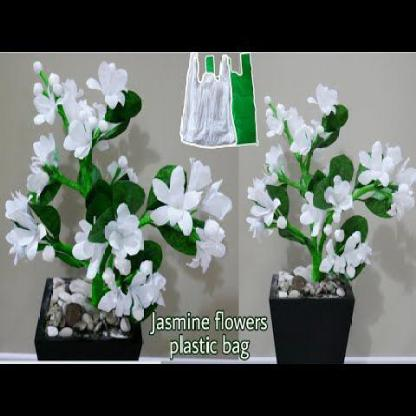Melati: (5, 192, 144, 306), (26, 61, 136, 157), (337, 143, 403, 277), (153, 163, 229, 277), (241, 152, 301, 232), (255, 80, 321, 138)
